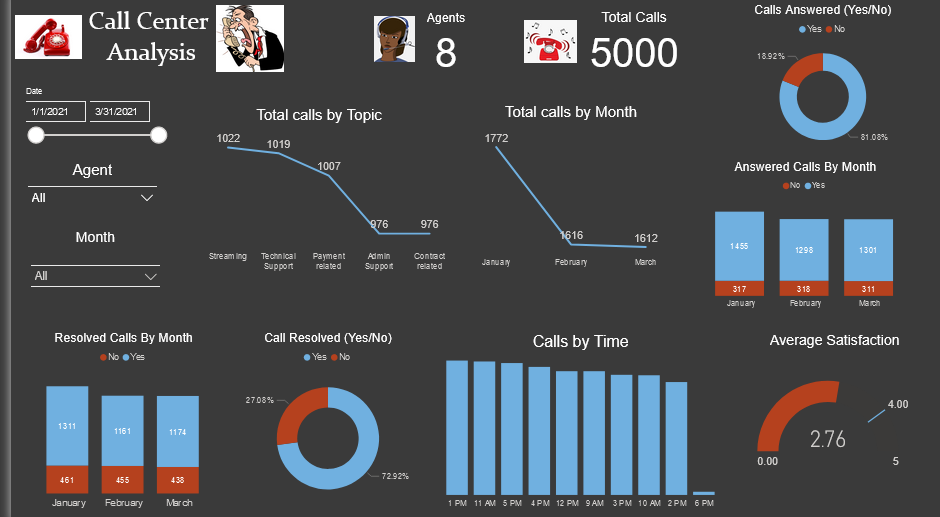

The dashboard page shown, as its layout file describes it:
{"tool":"powerbi","page":{"name":"Page 1","canvas":[1400,800],"ordinal":0},"visuals":[{"type":"lineChart","fields":{"Category":["Call Center.Topic"],"Y":["DAX Measures.Total calls"]},"box":[257.8,171.3,413.4,256.2],"z":0},{"type":"card","title":"Total Calls","fields":{"Values":["DAX Measures.Total calls"]},"box":[839.3,25.1,199.6,99],"z":1000},{"type":"slicer","title":"Agent","fields":{"Values":["Call Agents.Agent"]},"box":[15.7,249.9,215.3,89.6],"z":2000},{"type":"donutChart","title":"Calls Answered (Yes/No)","fields":{"Category":["Call Center.Answered"],"Y":["DAX Measures.Total calls"]},"box":[1082.9,15.7,279.8,235.8],"z":3000},{"type":"donutChart","title":"Call Resolved (Yes/No)","fields":{"Category":["Call Center.Resolved"],"Y":["DAX Measures.Total calls"]},"box":[333.2,509.2,289.2,276.6],"z":4000},{"type":"slicer","title":"Resolved","fields":{"Values":["Call Center.Resolved"]},"box":[15.7,367.8,215.3,84.9],"z":5000},{"type":"card","title":"Agents","fields":{"Values":["DAX Measures.No of Agents"]},"box":[578.4,26.7,154,99],"z":6000},{"type":"lineChart","fields":{"Category":["Call Center.Date.Variation.Date Hierarchy.Month"],"Y":["DAX Measures.Total calls"]},"box":[680.6,166.6,325.3,256.2],"z":7000},{"type":"gauge","title":"Average Satisfaction","fields":{"TargetValue":["DAX Measures.Target Satisfaction Rate"],"Y":["Avg(Call Center.Satisfaction rating)"],"MaxValue":["Max(Call Center.Satisfaction rating)"]},"box":[1119.1,512.4,243.6,256.2],"z":8000},{"type":"columnChart","title":"Answered Calls By Month","fields":{"Category":["Call Center.Date.Variation.Date Hierarchy.Month"],"Y":["CountNonNull(Call Center.Call Id)"],"Series":["Call Center.Answered"]},"box":[1016.9,251.5,359.9,234.2],"z":9000},{"type":"slicer","fields":{"Values":["Call Center.Date"]},"box":[9.4,136.7,234.2,99],"z":10000},{"type":"columnChart","title":"Resolved Calls By Month","fields":{"Category":["Call Center.Date.Variation.Date Hierarchy.Month"],"Y":["CountNonNull(Call Center.Call Id)"],"Series":["Call Center.Resolved"]},"box":[15.7,509.2,309.6,276.6],"z":11000},{"type":"textbox","box":[81.7,15.7,260.9,119.4],"z":12000},{"type":"image","box":[1.6,28.3,110,78.6],"z":13000},{"type":"image","box":[542.2,26.7,70.7,88],"z":14000},{"type":"image","box":[768.6,23.6,89.6,102.2],"z":15000},{"type":"image","box":[304.9,15.7,111.6,110],"z":16000},{"type":"clusteredColumnChart","title":"Calls by Time","fields":{"Category":["Call Center.Time"],"Y":["CountNonNull(Call Center.Call Id)"]},"box":[635,512.4,447.9,273.5],"z":16001}]}

Visuals, with their boxes on the page's 1400x800 design canvas (x1, y1, x2, y2). These are canvas units, not pixel positions in the 940x517 screenshot, which may show the page scaled, cropped or inside an application window:
lineChart - Call Center.Topic x DAX Measures.Total calls: region(258, 171, 671, 428)
"Total Calls" card: region(839, 25, 1039, 124)
"Agent" slicer: region(16, 250, 231, 340)
"Calls Answered (Yes/No)" donutChart: region(1083, 16, 1363, 252)
"Call Resolved (Yes/No)" donutChart: region(333, 509, 622, 786)
"Resolved" slicer: region(16, 368, 231, 453)
"Agents" card: region(578, 27, 732, 126)
lineChart - Call Center.Date.Variation.Date Hierarchy.Month x DAX Measures.Total calls: region(681, 167, 1006, 423)
"Average Satisfaction" gauge: region(1119, 512, 1363, 769)
"Answered Calls By Month" columnChart: region(1017, 252, 1377, 486)
slicer - Call Center.Date: region(9, 137, 244, 236)
"Resolved Calls By Month" columnChart: region(16, 509, 325, 786)
textbox: region(82, 16, 343, 135)
image: region(2, 28, 112, 107)
image: region(542, 27, 613, 115)
image: region(769, 24, 858, 126)
image: region(305, 16, 416, 126)
"Calls by Time" clusteredColumnChart: region(635, 512, 1083, 786)
